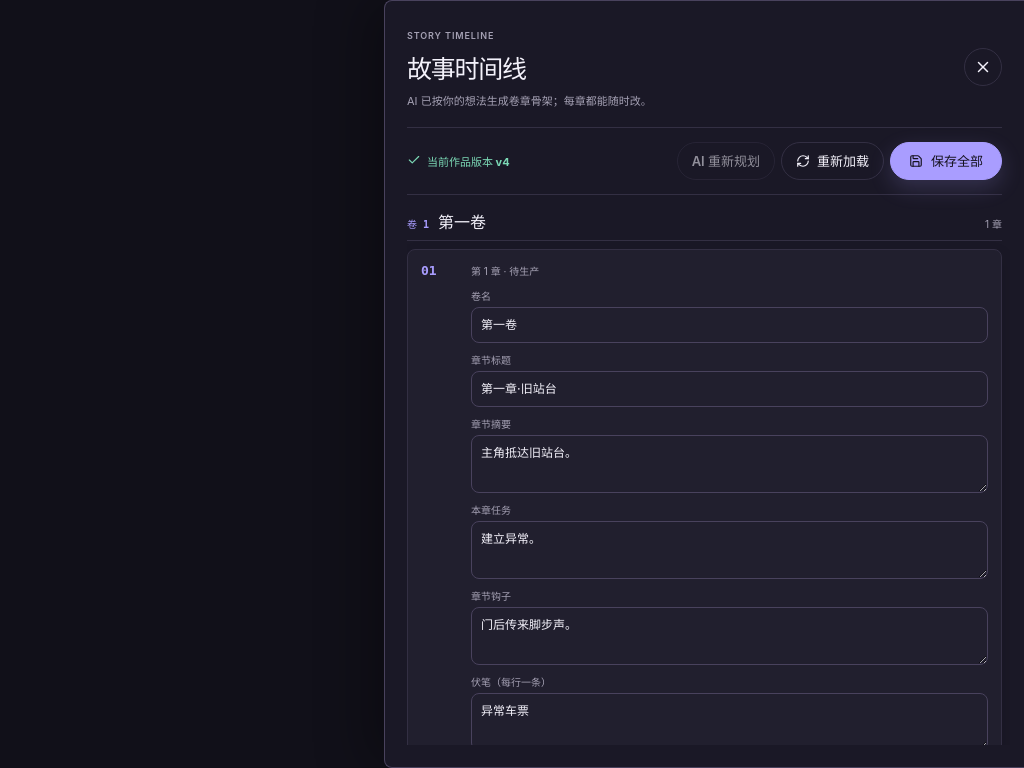
StoryTimelinePanel › edits an AI plan and sends the current book revision
Replace the text in the field showing "第一章·旧站台" with "作者改过的标题" at (730, 389), box x1=471 y1=371 x2=988 y2=407
(page scrolled)
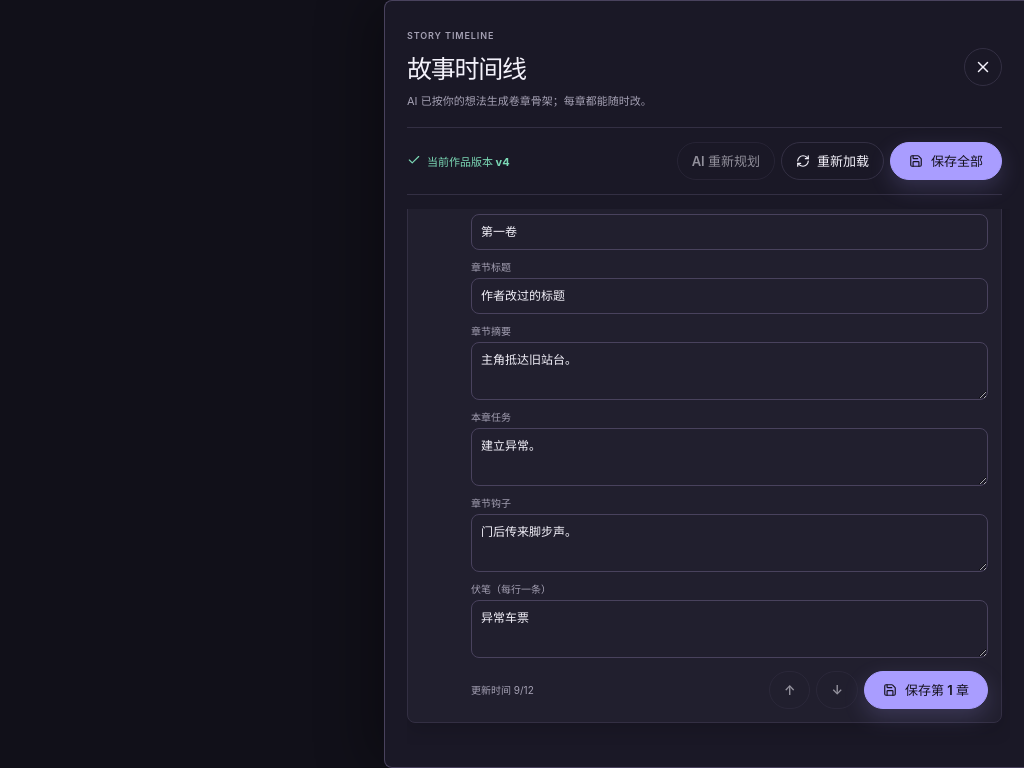
Click the button "保存第 1 章" at (926, 690), box x1=864 y1=671 x2=988 y2=709
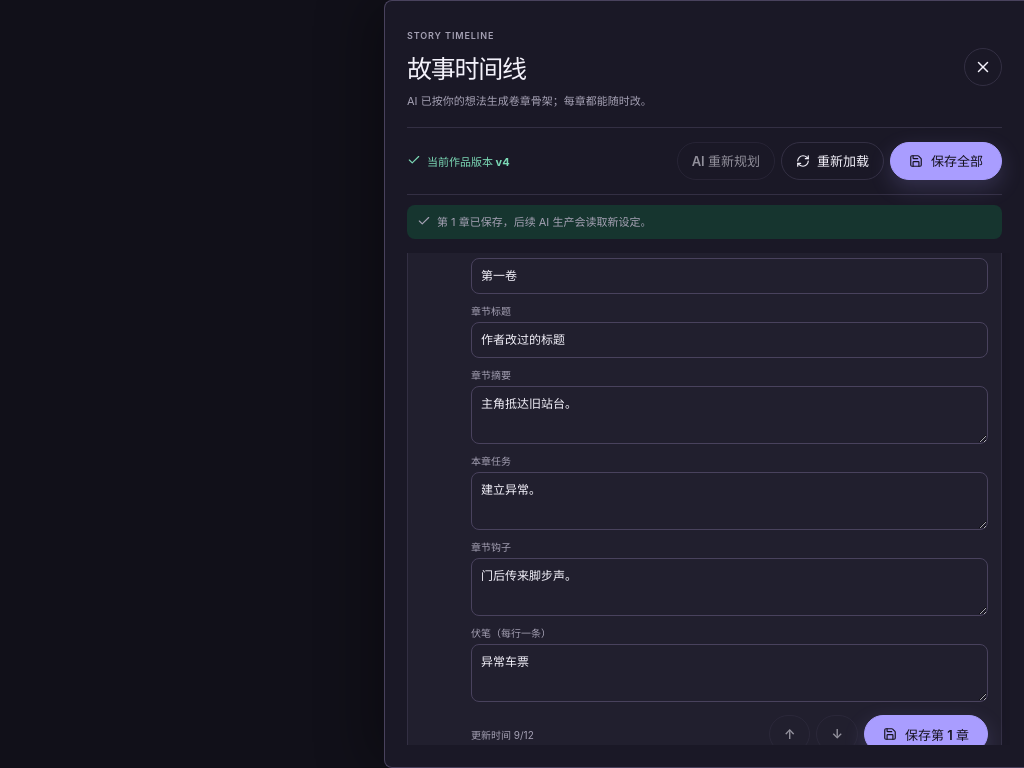
expect the message shows "后续 AI 生产会读取新设定": met, box x1=437 y1=215 x2=651 y2=229
